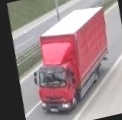truck: (22, 1, 122, 120)
